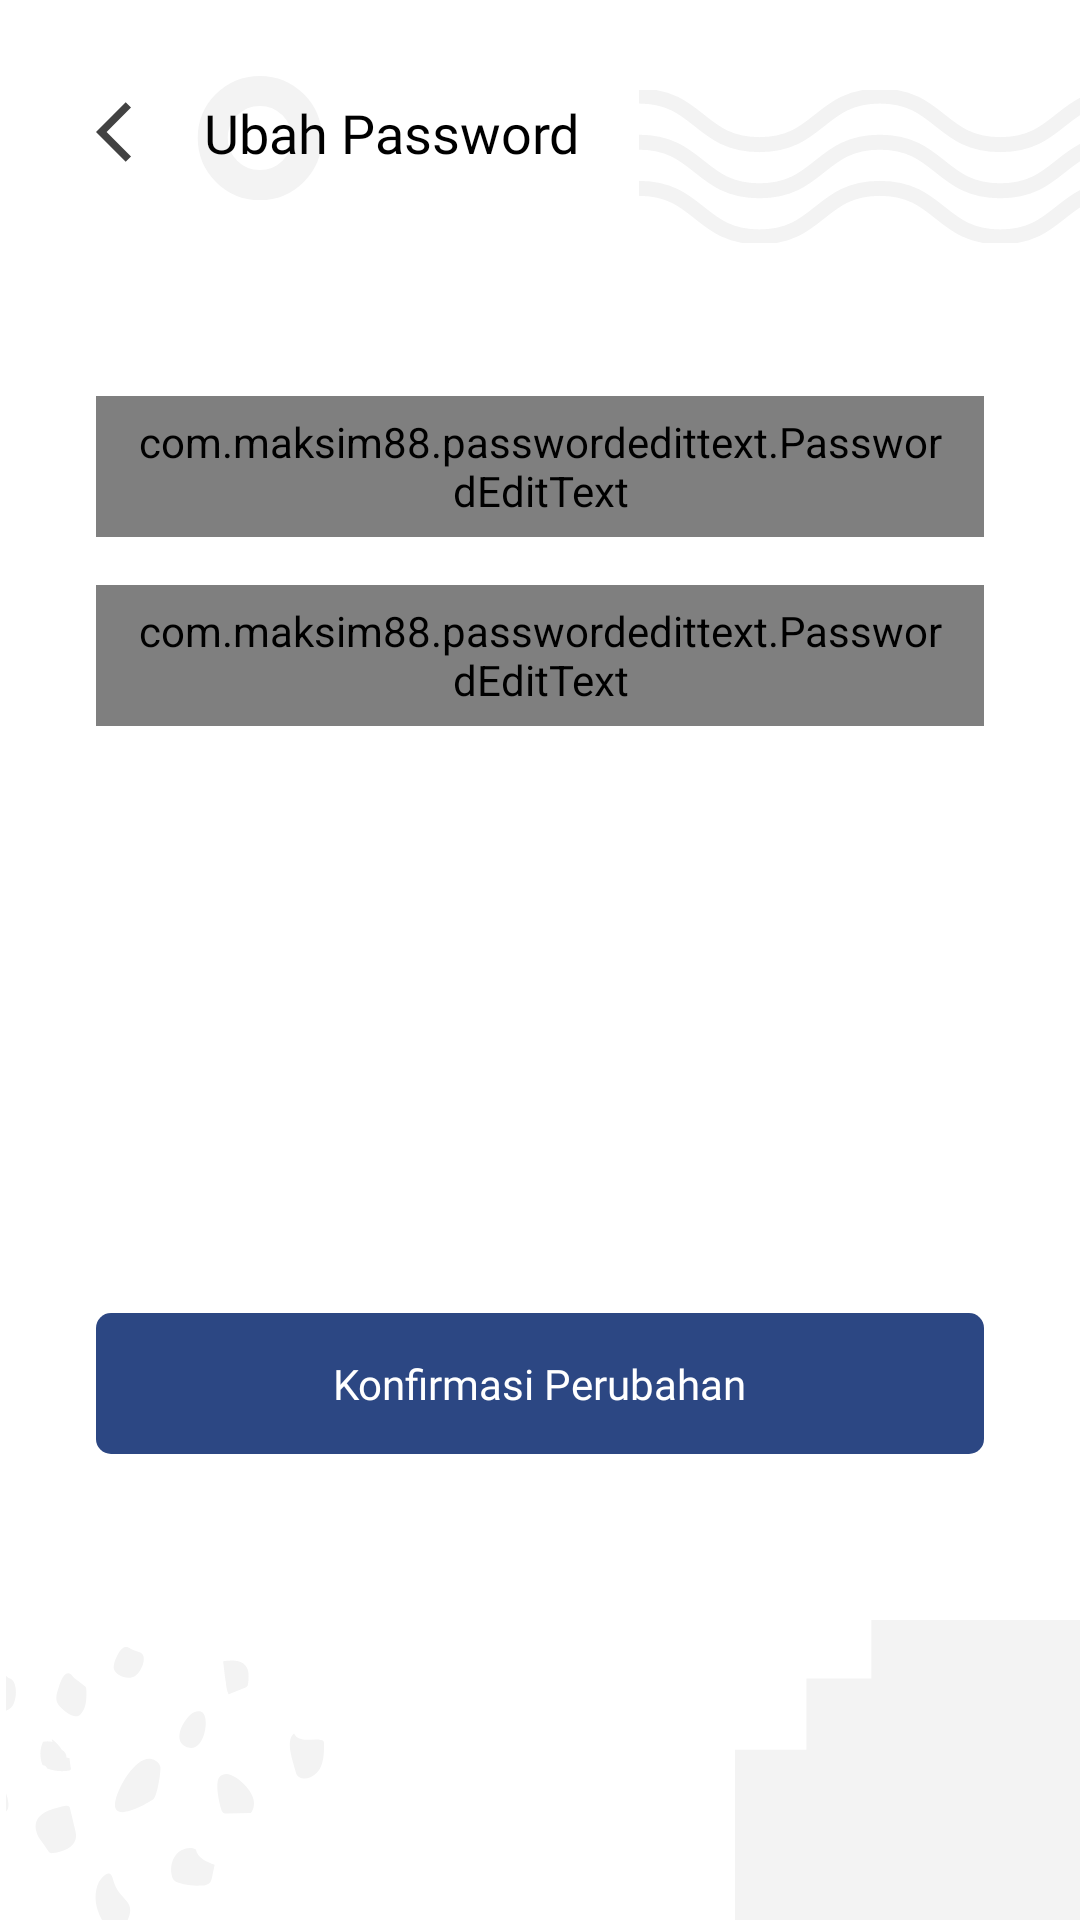

Screen size 1080px×1920px. Icon name, then its box in pixels as (x1, y1, x2, y2):
back: (96, 102, 131, 162)
